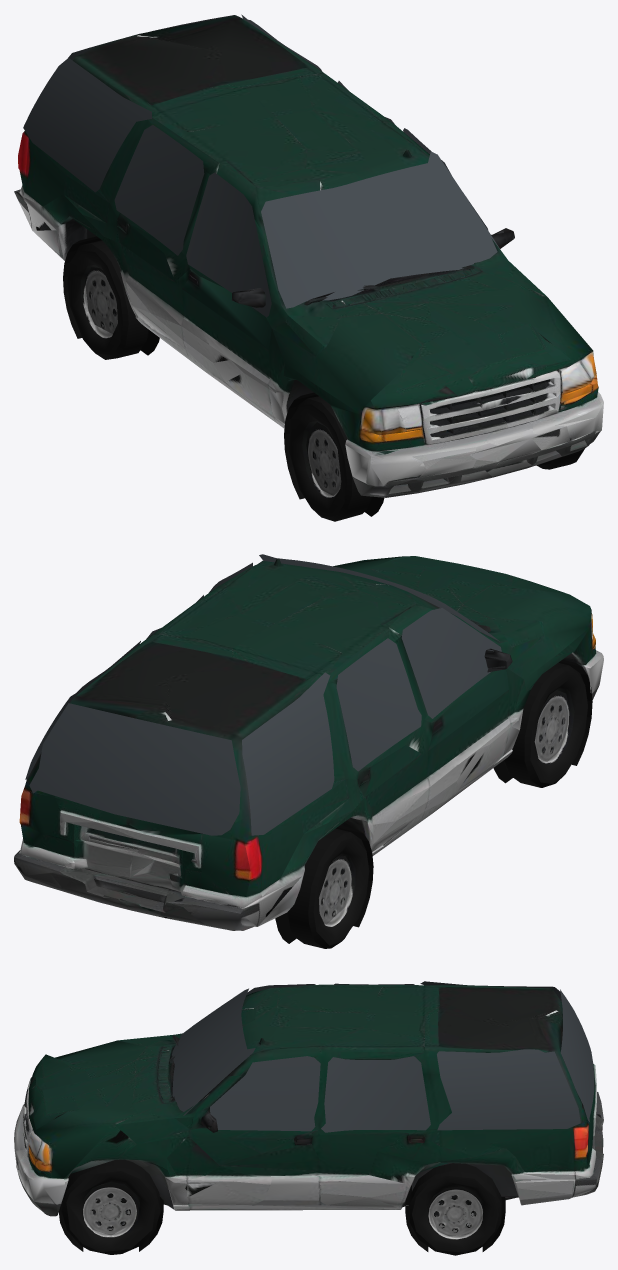
File: suv.glb
3 renders of one model, top to bottom at view 1: azimuth 30°, elevation 25°; view 2: azimuth 150°, elevation 25°; view 3: azimuth 270°, elevation 25°, orthographic. The views are drawn at different scales.
Parts seen in each view (by area): view 1: body, glass, wheel_fr, wheel_rr; view 2: body, glass, wheel_fr, wheel_rr; view 3: body, glass, wheel_fl, wheel_rl.
Boxes of the visible parts, x1=… form: body: x1=14, y1=15, x2=603, y2=516; glass: x1=23, y1=14, x2=500, y2=317; wheel_fr: x1=289, y1=396, x2=372, y2=521; wheel_rr: x1=67, y1=240, x2=148, y2=359; body: x1=14, y1=556, x2=603, y2=943; glass: x1=25, y1=554, x2=501, y2=835; wheel_fr: x1=504, y1=662, x2=587, y2=787; wheel_rr: x1=286, y1=828, x2=369, y2=948; body: x1=14, y1=984, x2=603, y2=1251; glass: x1=172, y1=981, x2=594, y2=1132; wheel_fl: x1=61, y1=1159, x2=160, y2=1254; wheel_rl: x1=408, y1=1163, x2=502, y2=1255.
Bounding box in the file's own units: 2.07 × 1.79 × 4.85.
3 materials, 2 textured.
